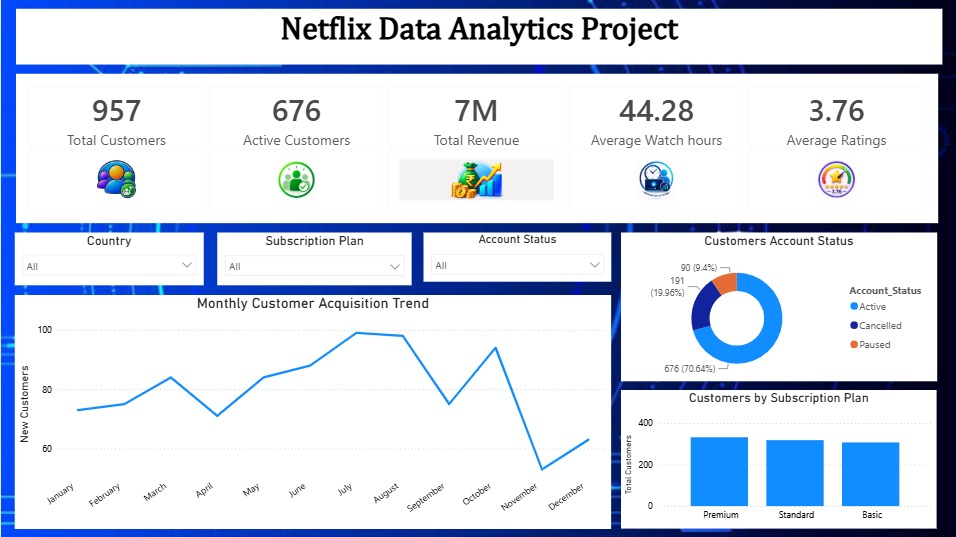

The page's visual inventory and layout, read from the dashboard file:
{"tool":"powerbi","page":{"name":"Executive Overview","canvas":[1280,720],"ordinal":0},"visuals":[{"type":"textbox","box":[19.2,12.3,1235,74.1],"z":0},{"type":"cardVisual","fields":{"Data":["DAX measures.Total Customers","DAX measures.Active Customers","DAX measures.Total Revenue","DAX measures.Average Watch hours","DAX measures.Average Ratings"]},"box":[19.2,98.8,1229.5,199],"z":1000},{"type":"columnChart","title":"Customers by Subscription Plan","fields":{"Category":["Netflix_Customers.Subscription_Plan"],"Y":["DAX measures.Total Customers"]},"box":[827.1,520.6,420.9,184.8],"z":2000},{"type":"donutChart","title":" Customers  Account Status","fields":{"Category":["Netflix_Customers.Account_Status"],"Y":["DAX measures.Total Customers"]},"box":[827.1,309.4,421.4,198.6],"z":4000},{"type":"slicer","title":"Country","fields":{"Values":["Netflix_Customers.Country"]},"box":[19.1,309.4,252.2,70.4],"z":4001},{"type":"slicer","title":"Subscription Plan","fields":{"Values":["Netflix_Customers.Subscription_Plan"]},"box":[288.9,309.4,259.6,70.4],"z":4002},{"type":"slicer","title":"Account Status","fields":{"Values":["Netflix_Customers.Account_Status"]},"box":[563.2,309.4,250.8,66],"z":4003},{"type":"lineChart","title":"Monthly Customer Acquisition Trend","fields":{"Category":["Netflix_Customers.Join_Date.Variation.Date Hierarchy.Month"],"Y":["Count(Netflix_Customers.Customer_ID)"]},"box":[19.1,393,794.9,312.4],"z":4004}]}

Visuals, with their boxes in screenshot pixels (x1, y1, x2, y2), scaled from the page's 1280x720 canvas onto the 956x537 screenshot:
textbox: [x1=14, y1=9, x2=937, y2=64]
cardVisual - DAX measures.Total Customers x DAX measures.Active Customers: [x1=14, y1=74, x2=933, y2=222]
"Customers by Subscription Plan" columnChart: [x1=618, y1=388, x2=932, y2=526]
" Customers  Account Status" donutChart: [x1=618, y1=231, x2=932, y2=379]
"Country" slicer: [x1=14, y1=231, x2=203, y2=283]
"Subscription Plan" slicer: [x1=216, y1=231, x2=410, y2=283]
"Account Status" slicer: [x1=421, y1=231, x2=608, y2=280]
"Monthly Customer Acquisition Trend" lineChart: [x1=14, y1=293, x2=608, y2=526]
